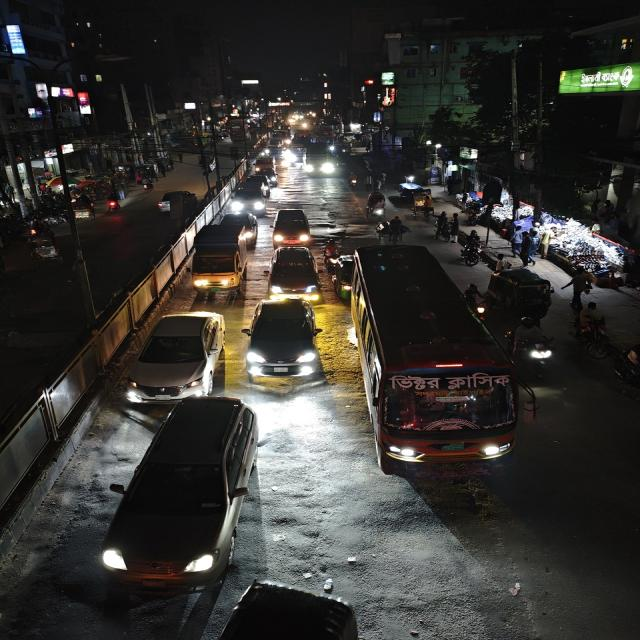bus: (348, 241, 522, 481)
car: (100, 397, 263, 598), (123, 307, 229, 403), (239, 297, 325, 393), (267, 244, 322, 302), (269, 207, 314, 247), (230, 175, 270, 215), (250, 155, 278, 174)
cng: (487, 267, 557, 321), (331, 255, 355, 300), (70, 195, 97, 222)
motorcycle: (511, 316, 557, 374), (570, 303, 612, 360), (458, 230, 488, 268), (103, 192, 124, 214), (136, 176, 158, 194), (346, 172, 361, 191)
pedestrian: (566, 264, 594, 310)
rickshaw: (373, 217, 409, 245), (362, 190, 388, 221), (70, 194, 98, 222)
truck: (186, 212, 259, 296), (300, 143, 333, 180)
